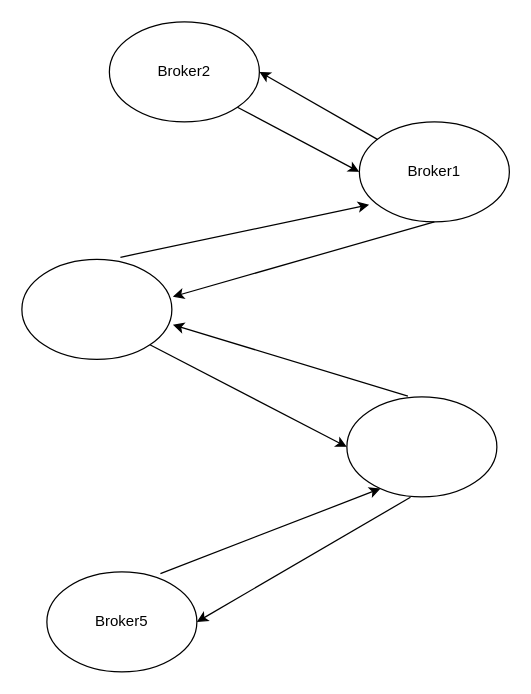
The diagram is 531 pixels wide and 694 high, and some of its shapes have lost their labels. Here are the shapes that lost their labels. From the top down, the centre of each, then its label:
(96,308): Broker3
(421,446): Broker4
